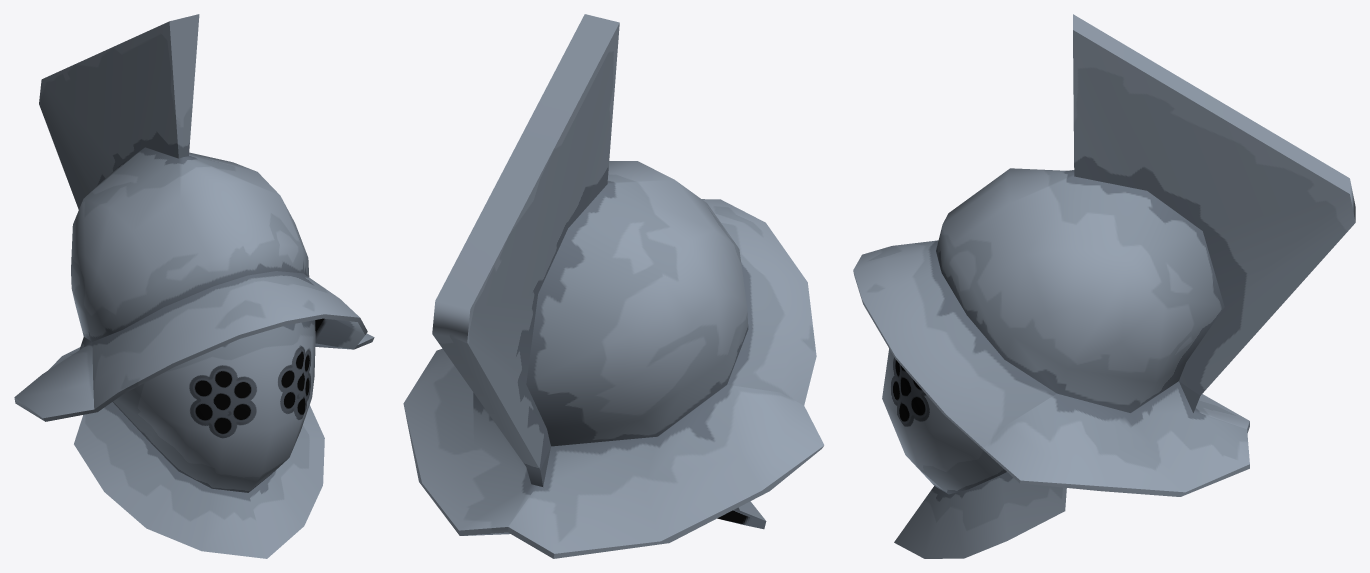
The model's file is Helmet2.fbx.
3 views of the same model, side by side, from view 1: azimuth 30°, elevation 25°; view 2: azimuth 150°, elevation 25°; view 3: azimuth 270°, elevation 25° (orthographic). The views are drawn at different scales.
Visible parts, largest first — view 1: Helmet2; view 2: Helmet2; view 3: Helmet2.
Boxes of the visible parts, x1=… form: Helmet2: x1=14, y1=14, x2=374, y2=558; Helmet2: x1=403, y1=14, x2=824, y2=558; Helmet2: x1=853, y1=14, x2=1355, y2=558.
Bounding box in the file's own units: 88.06 × 122 × 107.
